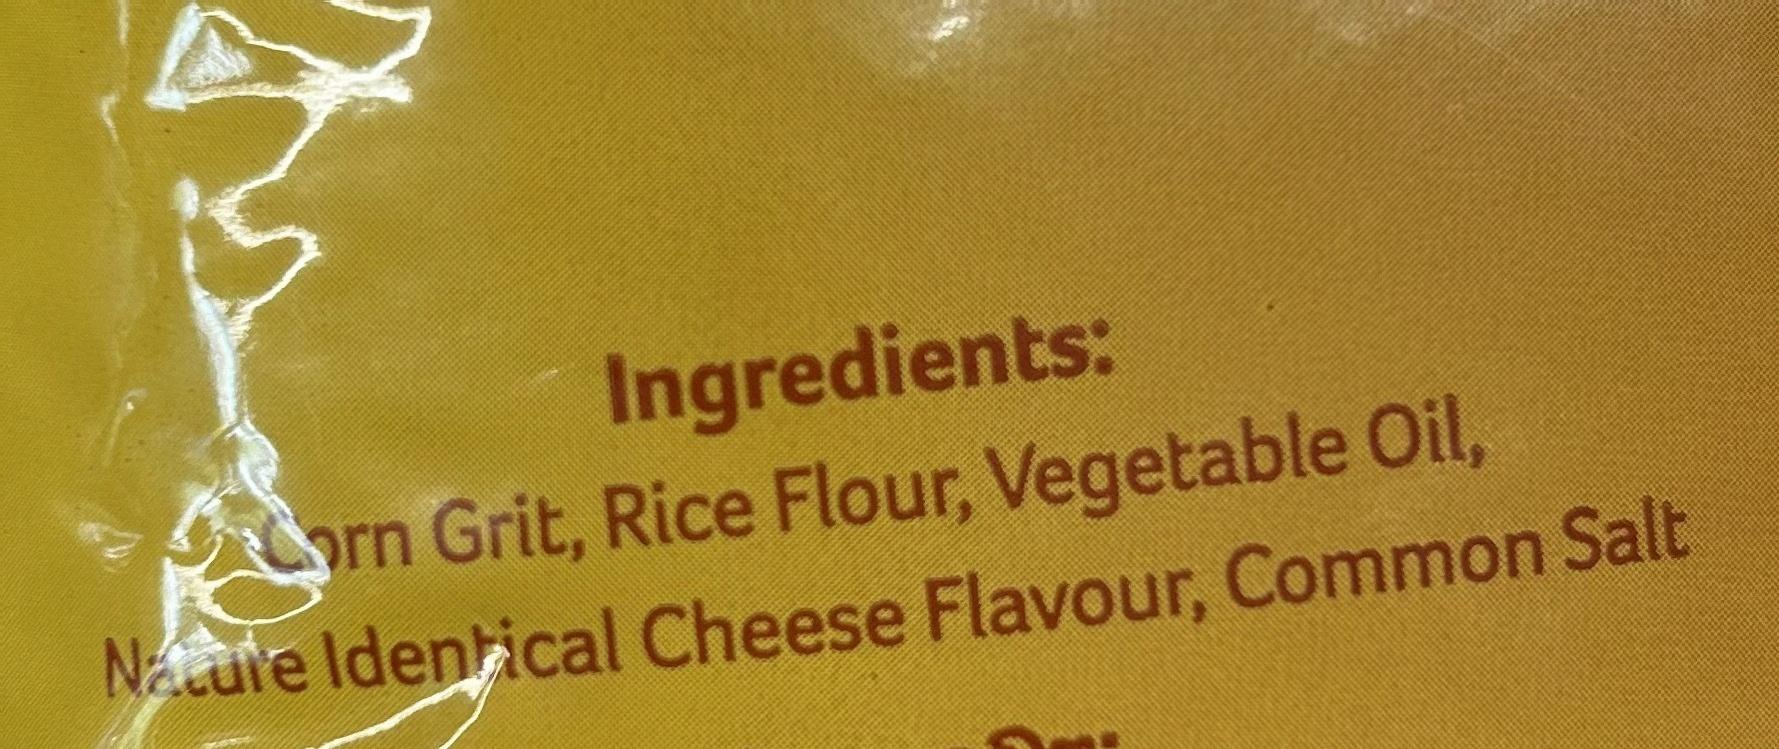ingredients: (94, 210, 1737, 712)
